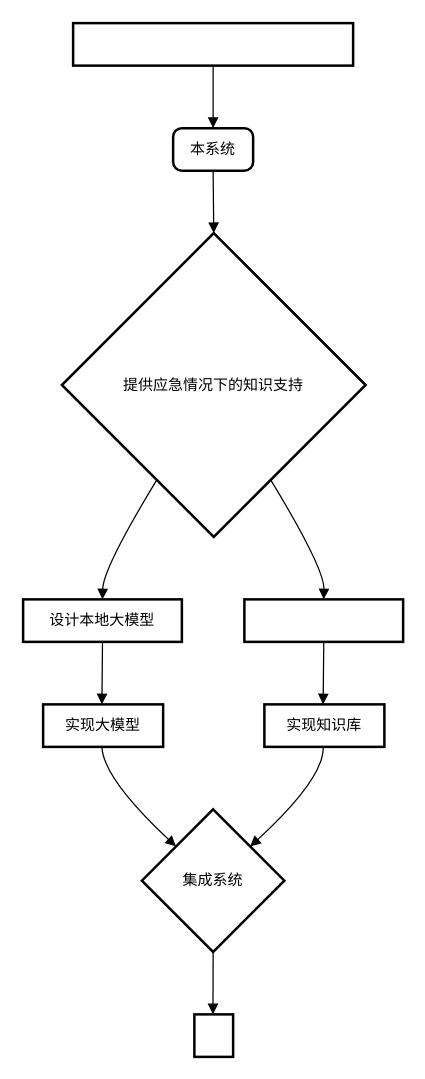
Image size: 425x1079. Some labels were removed from this diagram. Each missing label, with the centre of its shape:
"Ol" goes at (213,1035).
"本地大模型设计与本地知识库" goes at (212,43).
"设计本地知识库" goes at (323,620).
